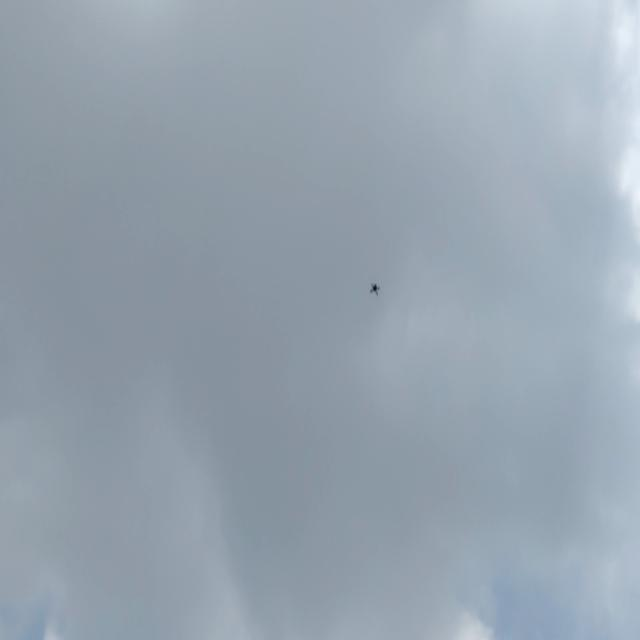drone: (364, 274, 384, 302)
